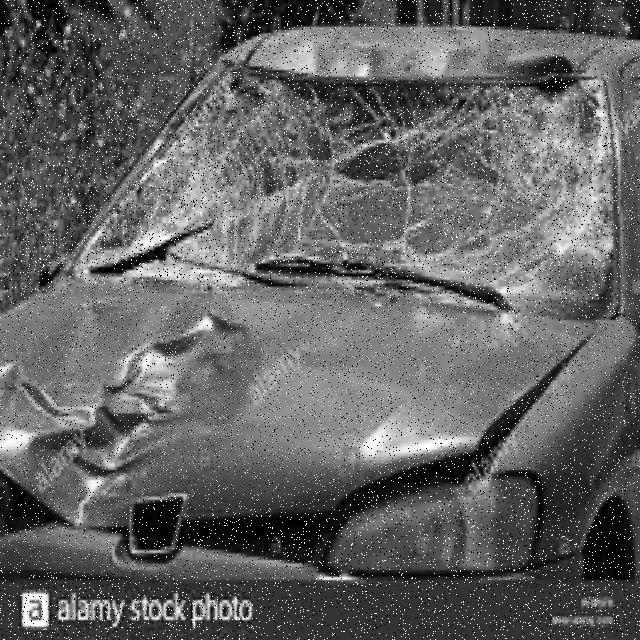Front-windscreen-damage: (90, 53, 632, 299)
bonnet-dent: (1, 289, 500, 524)
